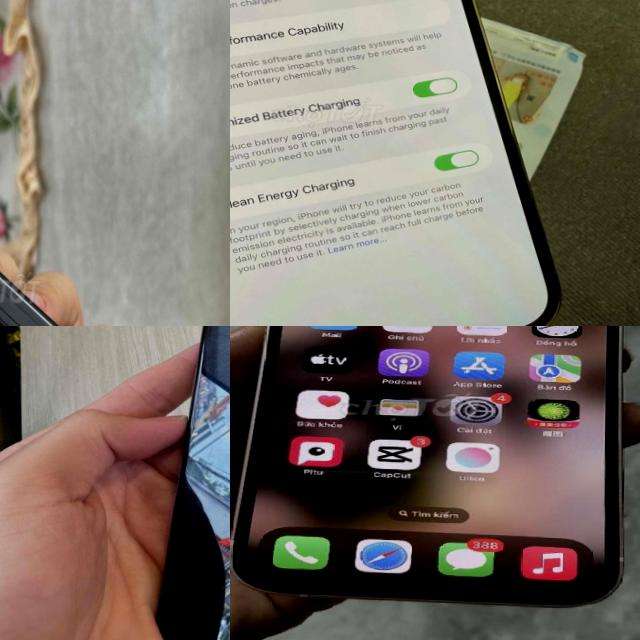gen_11: (158, 326, 230, 640)
gen_12_13: (230, 326, 632, 614), (230, 0, 577, 326)
gen_16: (0, 41, 230, 326)
